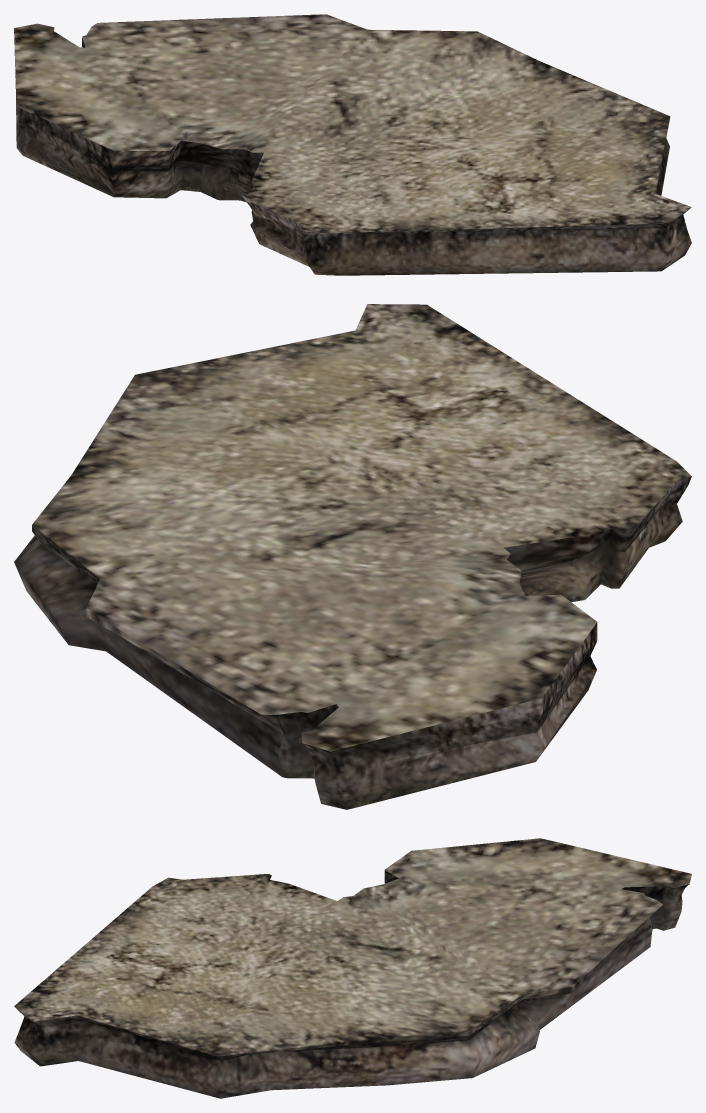
File: StreetRubble_2.fbx
3 renders of one model, top to bottom at view 1: azimuth 30°, elevation 25°; view 2: azimuth 150°, elevation 25°; view 3: azimuth 270°, elevation 25°, orthographic. The views are drawn at different scales.
Visible parts, largest first — view 1: StreetRubble_2; view 2: StreetRubble_2; view 3: StreetRubble_2.
Part boxes in pixels (x1=…): StreetRubble_2: x1=14, y1=14, x2=691, y2=275; StreetRubble_2: x1=14, y1=304, x2=691, y2=809; StreetRubble_2: x1=14, y1=838, x2=691, y2=1098.
Bounding box in the file's own units: 300 × 29.8 × 394.
